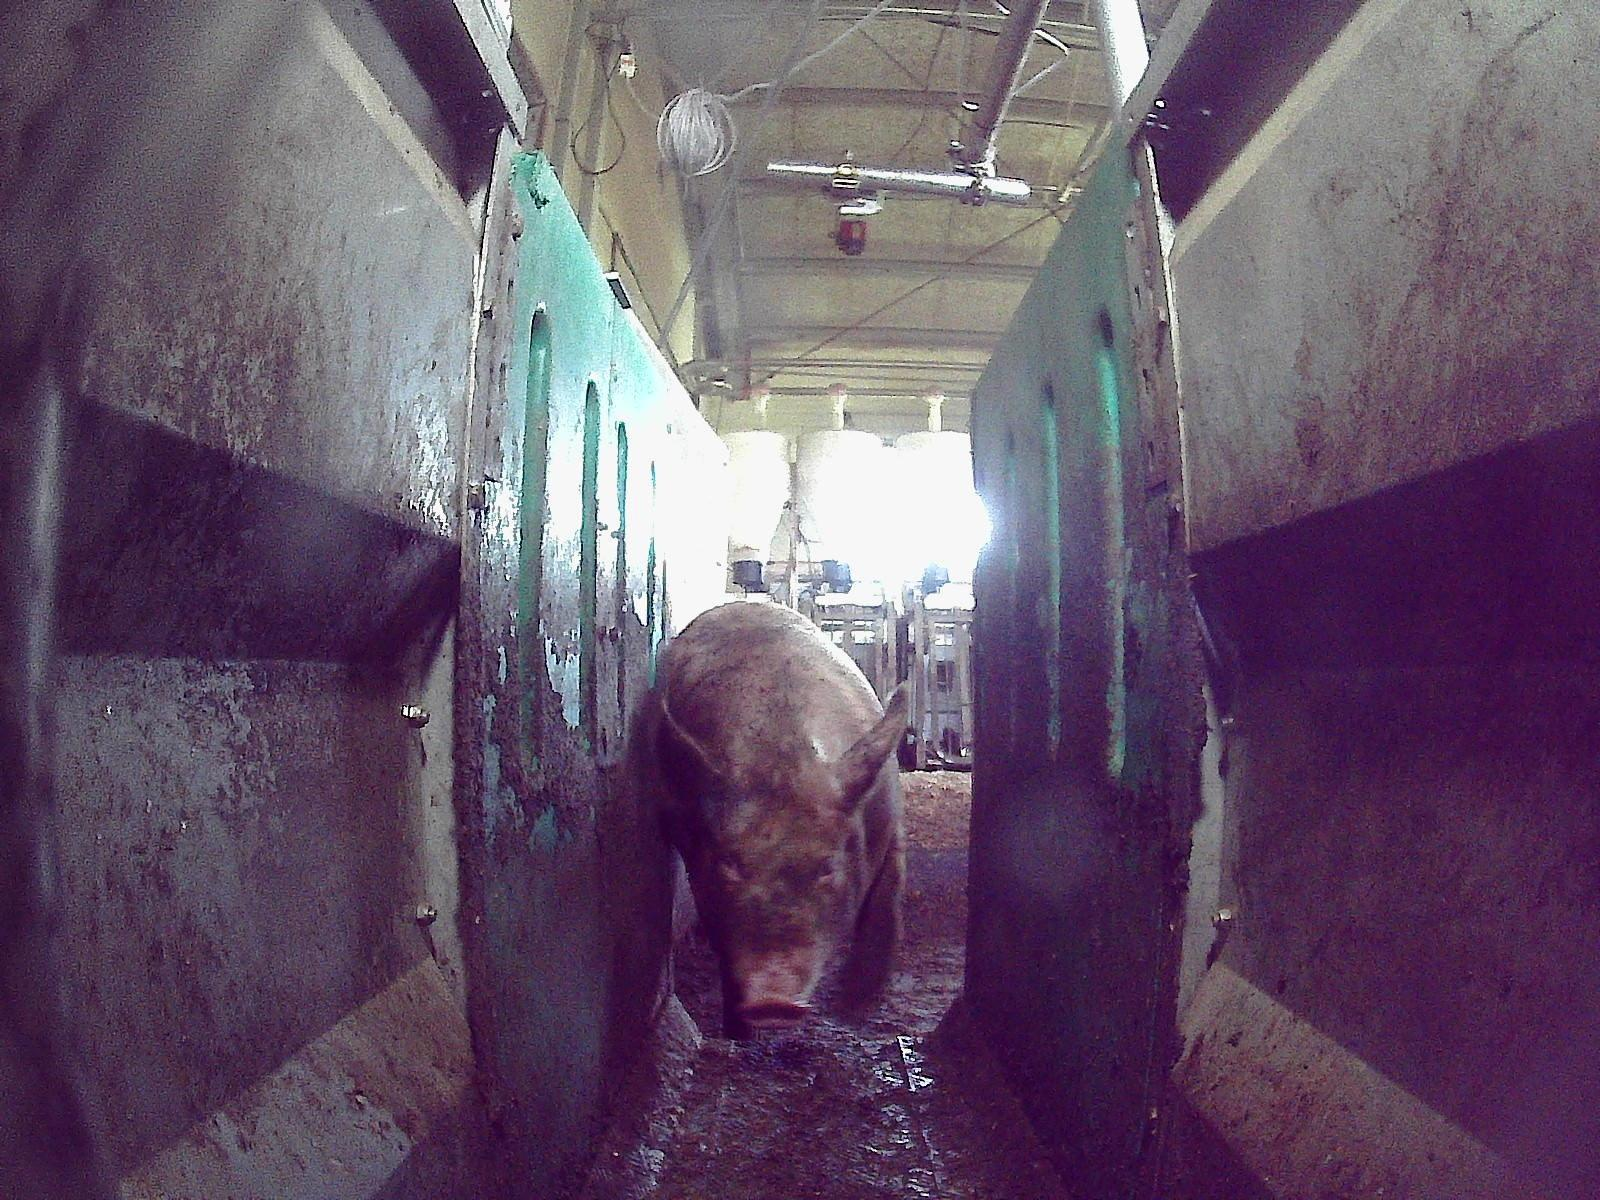Face: (694, 766, 852, 1022)
